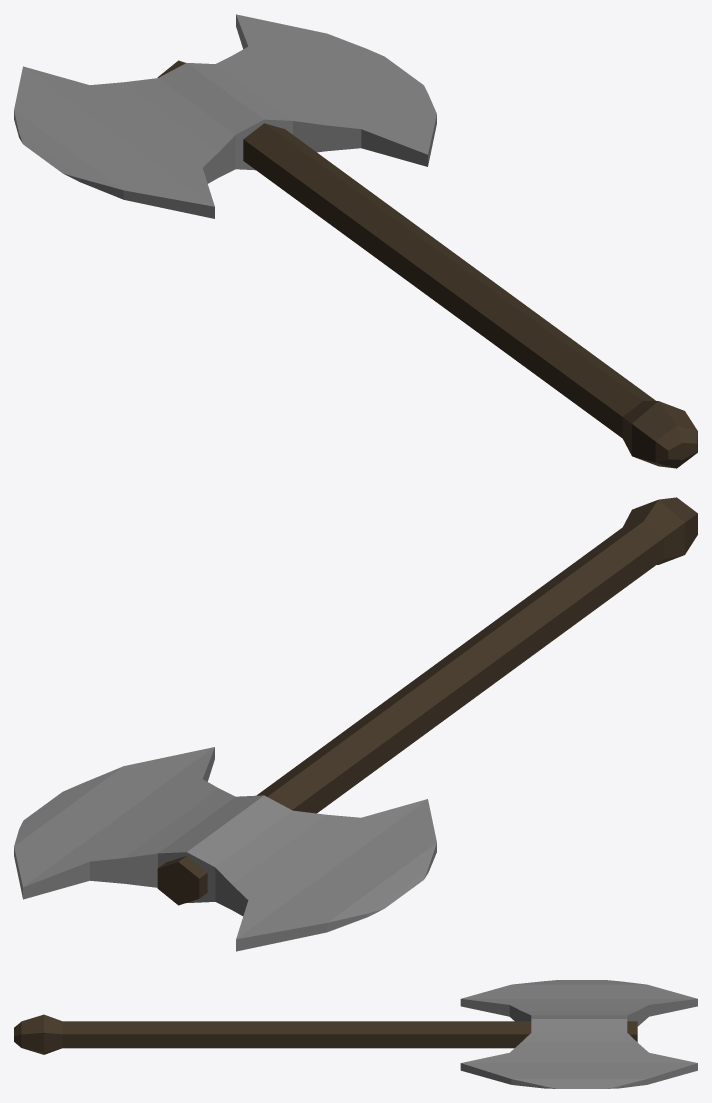
The model's file is Axe.fbx.
3 renders of one model, top to bottom at view 1: azimuth 30°, elevation 25°; view 2: azimuth 150°, elevation 25°; view 3: azimuth 270°, elevation 25°, orthographic. The views are drawn at different scales.
Visible parts, largest first — view 1: AxeBlade, AxeHandle; view 2: AxeBlade, AxeHandle, AxeEnd; view 3: AxeBlade, AxeHandle.
Part boxes in pixels (x1,y1,x2,y2): AxeBlade: (14, 14, 436, 218); AxeHandle: (243, 123, 697, 468); AxeBlade: (14, 747, 436, 951); AxeHandle: (256, 497, 697, 813); AxeEnd: (157, 856, 207, 905); AxeBlade: (460, 980, 697, 1088); AxeHandle: (14, 1014, 531, 1054).
Size of the model in its own units: 173 by 29.98 by 459.
